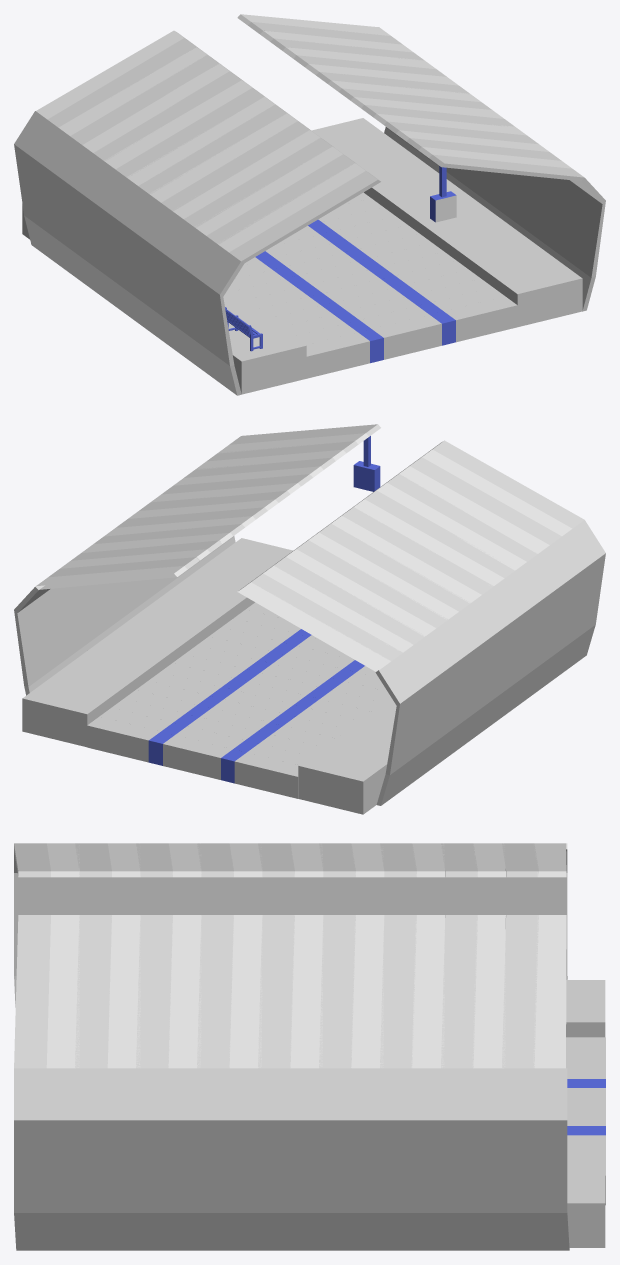
Rendered from road.fbx.
3 renders of one model, top to bottom at view 1: azimuth 30°, elevation 25°; view 2: azimuth 150°, elevation 25°; view 3: azimuth 270°, elevation 25°, orthographic. The views are drawn at different scales.
Parts seen in each view (by area): view 1: Walls, Road, Walls.001, Pavement; view 2: Walls, Road, Walls.001, Pavement, Leg; view 3: Walls, Walls.001, Pavement, Road.
Boxes of the visible parts, x1=… form: Walls: x1=14, y1=21, x2=605, y2=395; Road: x1=228, y1=192, x2=517, y2=378; Walls.001: x1=36, y1=14, x2=571, y2=252; Pavement: x1=22, y1=118, x2=582, y2=394; Walls: x1=14, y1=424, x2=605, y2=805; Road: x1=87, y1=602, x2=391, y2=798; Walls.001: x1=36, y1=433, x2=572, y2=671; Pavement: x1=22, y1=538, x2=396, y2=814; Leg: x1=353, y1=436, x2=380, y2=491; Walls: x1=14, y1=843, x2=569, y2=1250; Walls.001: x1=46, y1=843, x2=566, y2=1068; Pavement: x1=566, y1=980, x2=605, y2=1247; Road: x1=566, y1=1037, x2=605, y2=1205.
Size of the model in its own units: 3660 by 1639 by 3617.
